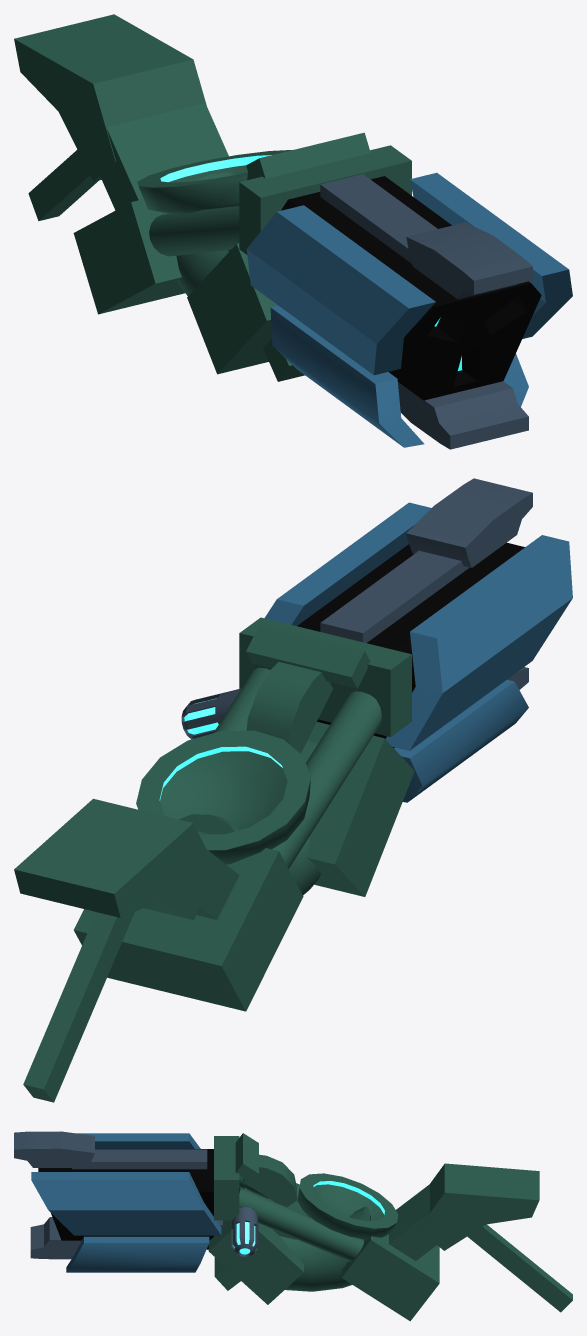
File: Gun_Idle_Rafle.fbx
3 views of the same model, one above another, from view 1: azimuth 30°, elevation 25°; view 2: azimuth 150°, elevation 25°; view 3: azimuth 270°, elevation 25° (orthographic). The views are drawn at different scales.
Visible parts, largest first — view 1: GUNBASE, Cannon, Top, Bot; view 2: GUNBASE, Top, Cannon, Bot, Recharge; view 3: GUNBASE, Top, Cannon, Bot, Recharge.
Part boxes in pixels (x1,y1,x2,y2): GUNBASE: [14, 14, 411, 381]; Cannon: [281, 174, 541, 449]; Top: [246, 172, 572, 375]; Bot: [270, 305, 528, 447]; GUNBASE: [14, 617, 414, 1102]; Top: [264, 502, 572, 750]; Cannon: [297, 478, 532, 747]; Bot: [394, 680, 528, 802]; Recharge: [181, 688, 241, 739]; GUNBASE: [208, 1133, 572, 1321]; Top: [31, 1133, 221, 1235]; Cannon: [14, 1131, 222, 1259]; Bot: [66, 1236, 209, 1272]; Recharge: [231, 1207, 258, 1256].
Size of the model in its own units: 71.97 by 86.69 by 260.
